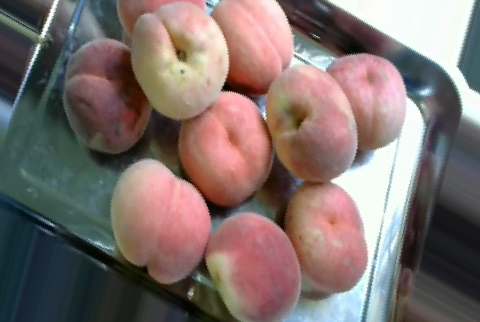Peach: (109, 157, 211, 284), (260, 61, 358, 184), (199, 211, 302, 322), (178, 90, 275, 207), (133, 5, 225, 121), (65, 37, 148, 154), (284, 181, 368, 293), (209, 0, 296, 94)
